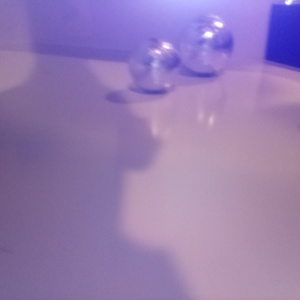alive_ball: (176, 13, 233, 75), (129, 38, 180, 92)
